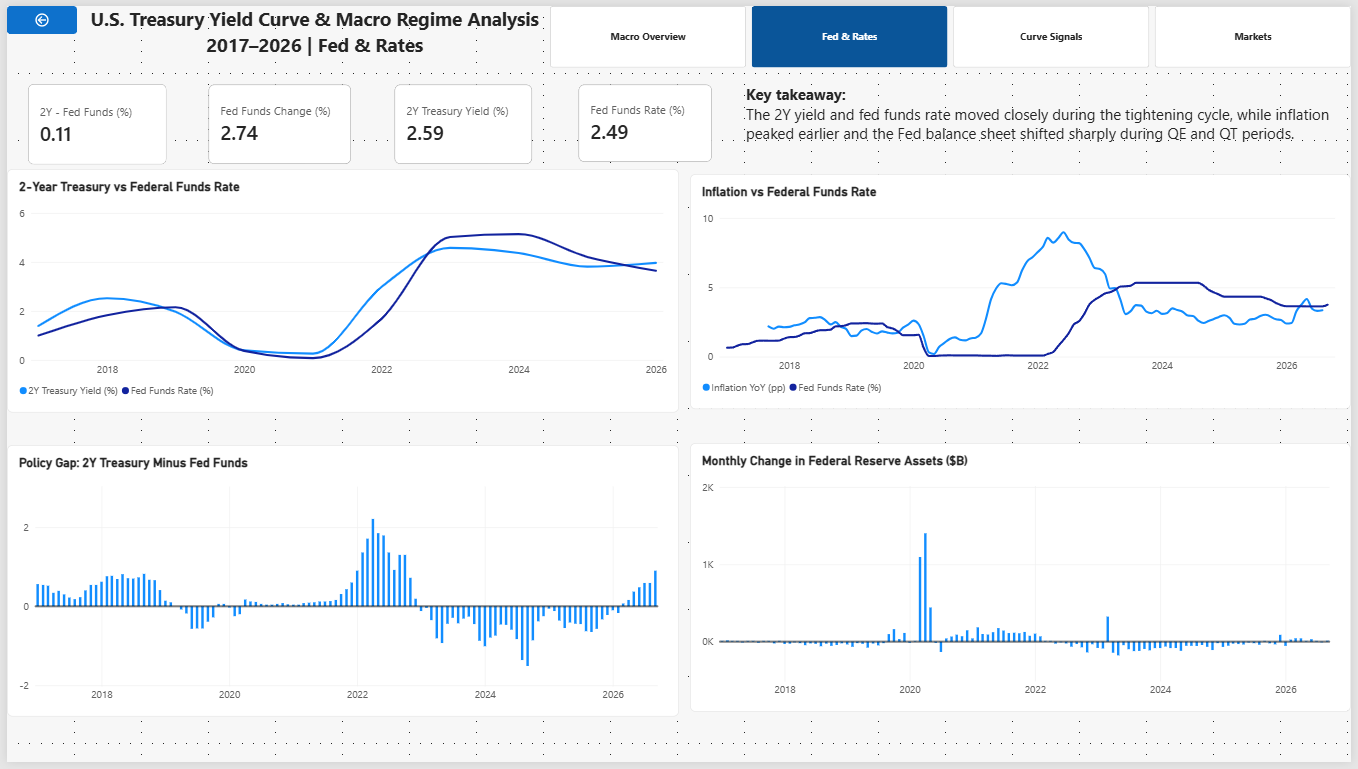

What the dashboard file says about the page in this screenshot:
{"tool":"powerbi","page":{"name":"Fed & Rates","canvas":[1920,1080],"ordinal":1},"visuals":[{"type":"pageNavigator","box":[776,0,1144.9,88.2],"z":0},{"type":"textbox","box":[112,0,656,176],"z":1},{"type":"cardVisual","fields":{"Data":["analytics monthly_macro_market.2Y Yield"]},"box":[553.3,111.7,198.3,115],"z":2},{"type":"cardVisual","fields":{"Data":["analytics monthly_macro_market.Fed Funds"]},"box":[816,112,192,112],"z":3},{"type":"cardVisual","fields":{"Data":["analytics monthly_macro_market.2Y - Fed Funds"]},"box":[30,111.7,198.3,115],"z":4},{"type":"cardVisual","fields":{"Data":["analytics monthly_macro_market.Fed Funds Change"]},"box":[286.7,111.7,205,115],"z":5},{"type":"lineChart","title":"2-Year Treasury vs Federal Funds Rate","fields":{"Category":["analytics dim_month.month_date.Variation.Date Hierarchy.Year","analytics dim_month.month_date.Variation.Date Hierarchy.Quarter","analytics dim_month.month_date.Variation.Date Hierarchy.Month","analytics dim_month.month_date.Variation.Date Hierarchy.Day"],"Y":["analytics monthly_macro_market.2Y Yield","analytics monthly_macro_market.Fed Funds"]},"box":[0,233.3,960,348],"z":6},{"type":"clusteredColumnChart","title":"Policy Gap: 2Y Treasury Minus Fed Funds","fields":{"Category":["analytics dim_month.month_date"],"Y":["analytics monthly_macro_market.2Y - Fed Funds"]},"box":[0,626.7,960,388.3],"z":7},{"type":"lineChart","title":"Inflation vs Federal Funds Rate","fields":{"Category":["analytics dim_month.month_date"],"Y":["analytics monthly_macro_market.Inflation YoY (pp)","analytics monthly_macro_market.Fed Funds"]},"box":[976,240,944,336],"z":8},{"type":"actionButton","box":[0,0,100,40],"z":10},{"type":"clusteredColumnChart","title":"Monthly Change in Federal Reserve Assets ($B)","fields":{"Category":["analytics dim_month.month_date"],"Y":["analytics monthly_macro_market.Fed Assets Change ($B)"]},"box":[976,624,944,384],"z":11},{"type":"textbox","box":[1056,112,864,144],"z":12}]}

Visuals, with their boxes in screenshot pixels (x1, y1, x2, y2), scaled from the page's 1920x1080 canvas onto the 1358x769 screenshot:
pageNavigator: select_region(549, 0, 1357, 63)
textbox: select_region(79, 0, 543, 125)
cardVisual - analytics monthly_macro_market.2Y Yield: select_region(391, 80, 532, 161)
cardVisual - analytics monthly_macro_market.Fed Funds: select_region(577, 80, 713, 159)
cardVisual - analytics monthly_macro_market.2Y - Fed Funds: select_region(21, 80, 161, 161)
cardVisual - analytics monthly_macro_market.Fed Funds Change: select_region(203, 80, 348, 161)
"2-Year Treasury vs Federal Funds Rate" lineChart: select_region(0, 166, 679, 414)
"Policy Gap: 2Y Treasury Minus Fed Funds" clusteredColumnChart: select_region(0, 446, 679, 723)
"Inflation vs Federal Funds Rate" lineChart: select_region(690, 171, 1357, 410)
actionButton: select_region(0, 0, 71, 28)
"Monthly Change in Federal Reserve Assets ($B)" clusteredColumnChart: select_region(690, 444, 1357, 718)
textbox: select_region(747, 80, 1357, 182)
